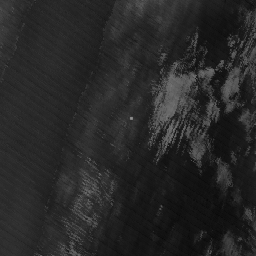Target: (128, 115, 135, 121)
